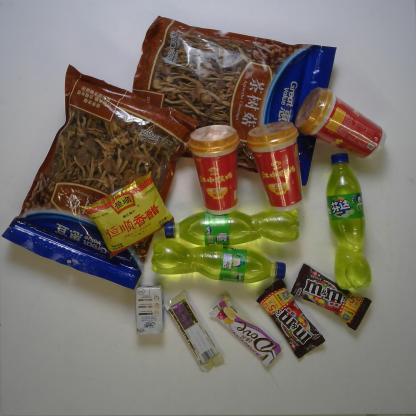Chocolate: (254, 277, 327, 361), (206, 293, 285, 369), (288, 261, 372, 332), (163, 289, 226, 373)
Dried Food: (1, 59, 202, 291), (129, 13, 339, 188)
Drink: (324, 150, 373, 292), (149, 238, 288, 286), (160, 204, 302, 249)
Instant Drink: (292, 84, 389, 162), (244, 120, 307, 216), (186, 122, 243, 218)
Milk: (134, 284, 165, 336)
Seasoner: (77, 169, 177, 262)
